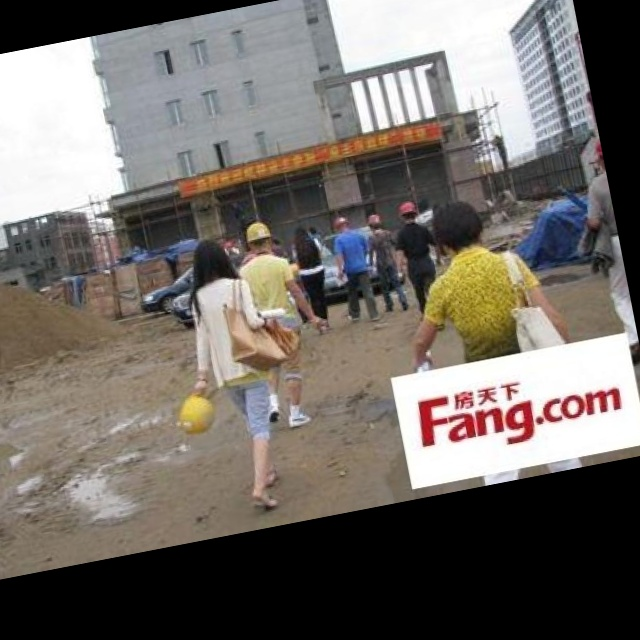Sin_Chaleco: (187, 274, 272, 389)
